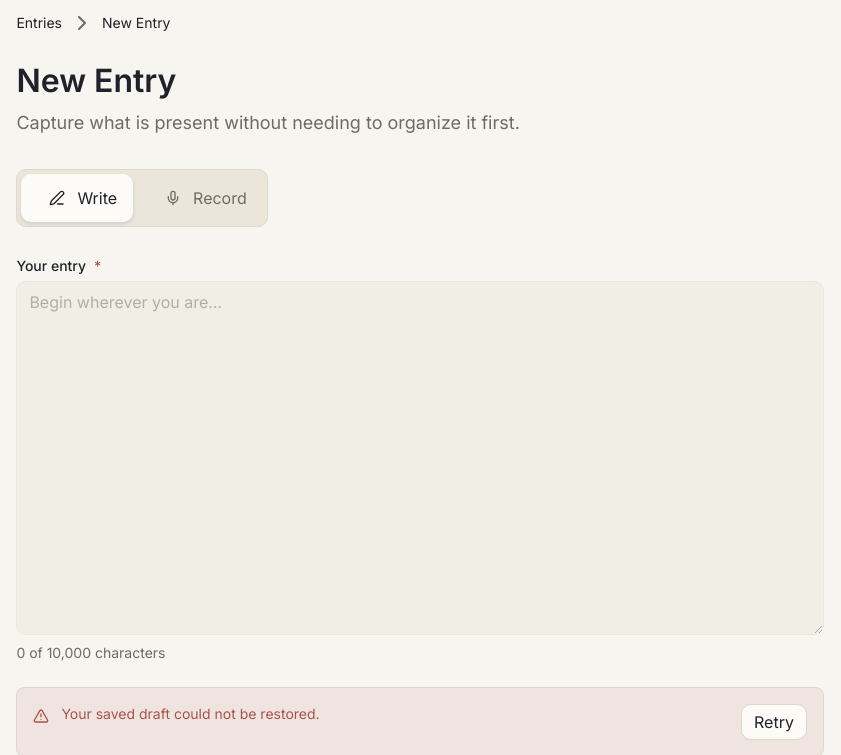
Test: NewEntryScreen › shows a retryable restore error
Expected: the text "Your saved draft could not be restored." is shown, x1=61 y1=705 x2=320 y2=722
Click the button "Retry" at [774, 722], box x1=741 y1=704 x2=807 y2=740
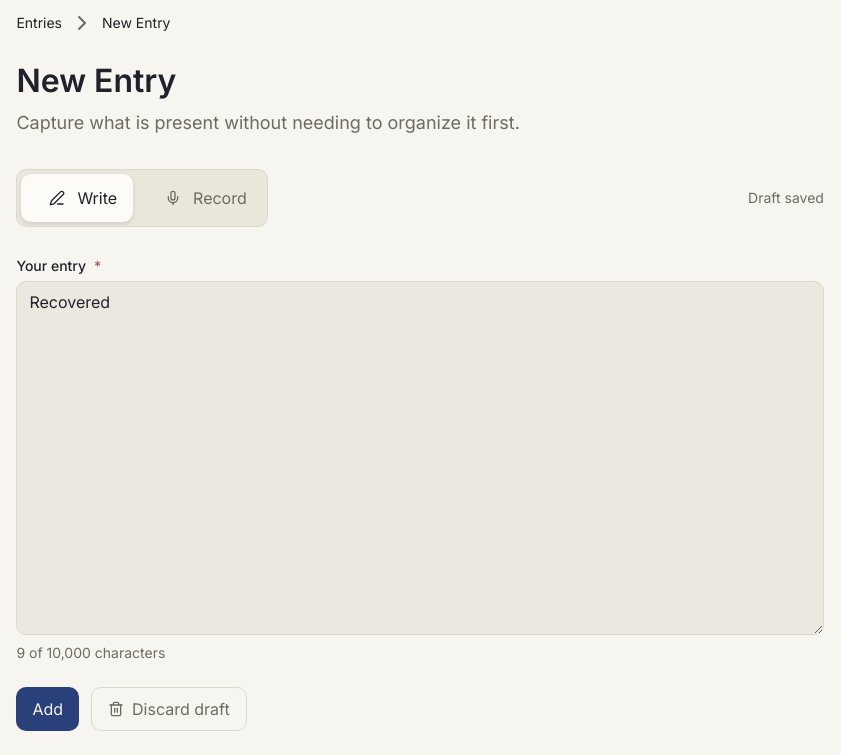
Now the text box labelled "Your entry" is enabled, box x1=16 y1=281 x2=824 y2=635
Now the text box labelled "Your entry" holds "Recovered", box x1=16 y1=281 x2=824 y2=635
